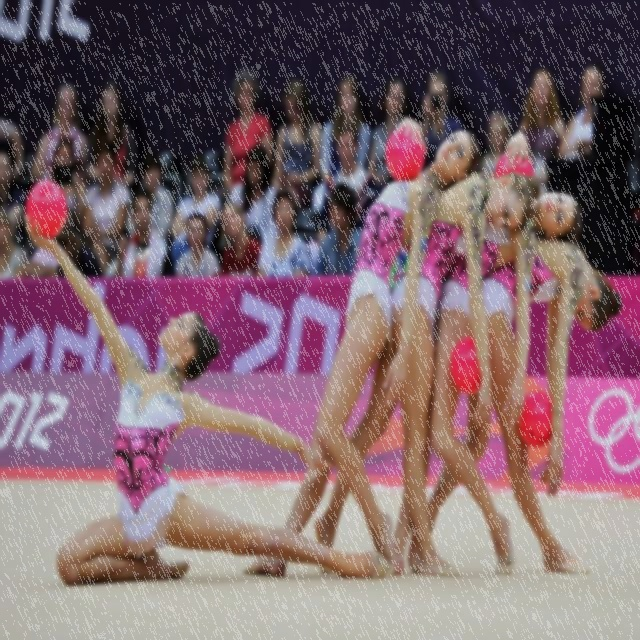pessoa: (22, 208, 396, 588), (238, 112, 480, 580), (365, 126, 586, 580), (312, 167, 542, 579), (426, 237, 622, 574), (76, 140, 135, 278), (315, 117, 378, 246), (222, 67, 276, 209), (84, 79, 140, 214), (28, 78, 91, 186), (272, 78, 322, 210), (318, 72, 374, 184), (110, 188, 178, 280), (170, 155, 222, 265), (512, 66, 568, 166), (253, 188, 313, 278), (27, 209, 102, 281), (366, 77, 408, 202), (226, 142, 278, 242), (554, 63, 604, 164), (32, 136, 88, 223), (313, 180, 364, 275), (0, 115, 29, 281), (420, 70, 462, 174), (218, 200, 262, 280), (173, 210, 223, 278), (140, 159, 176, 239), (482, 110, 511, 178)
